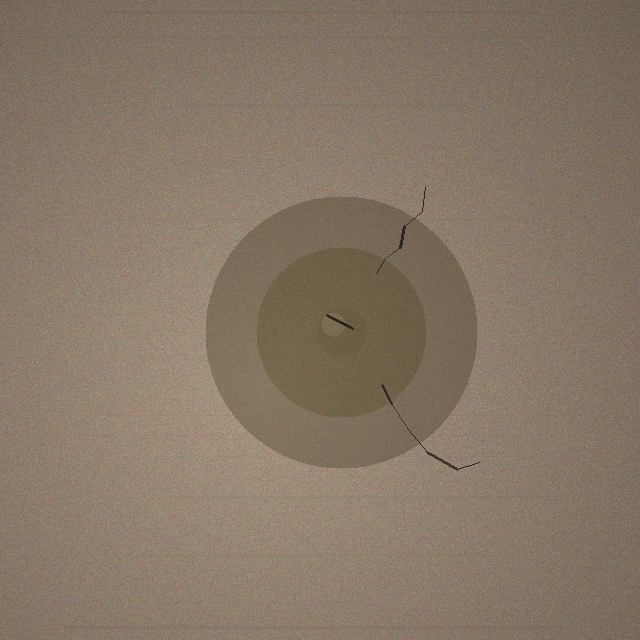crack: (205, 196, 477, 468)
